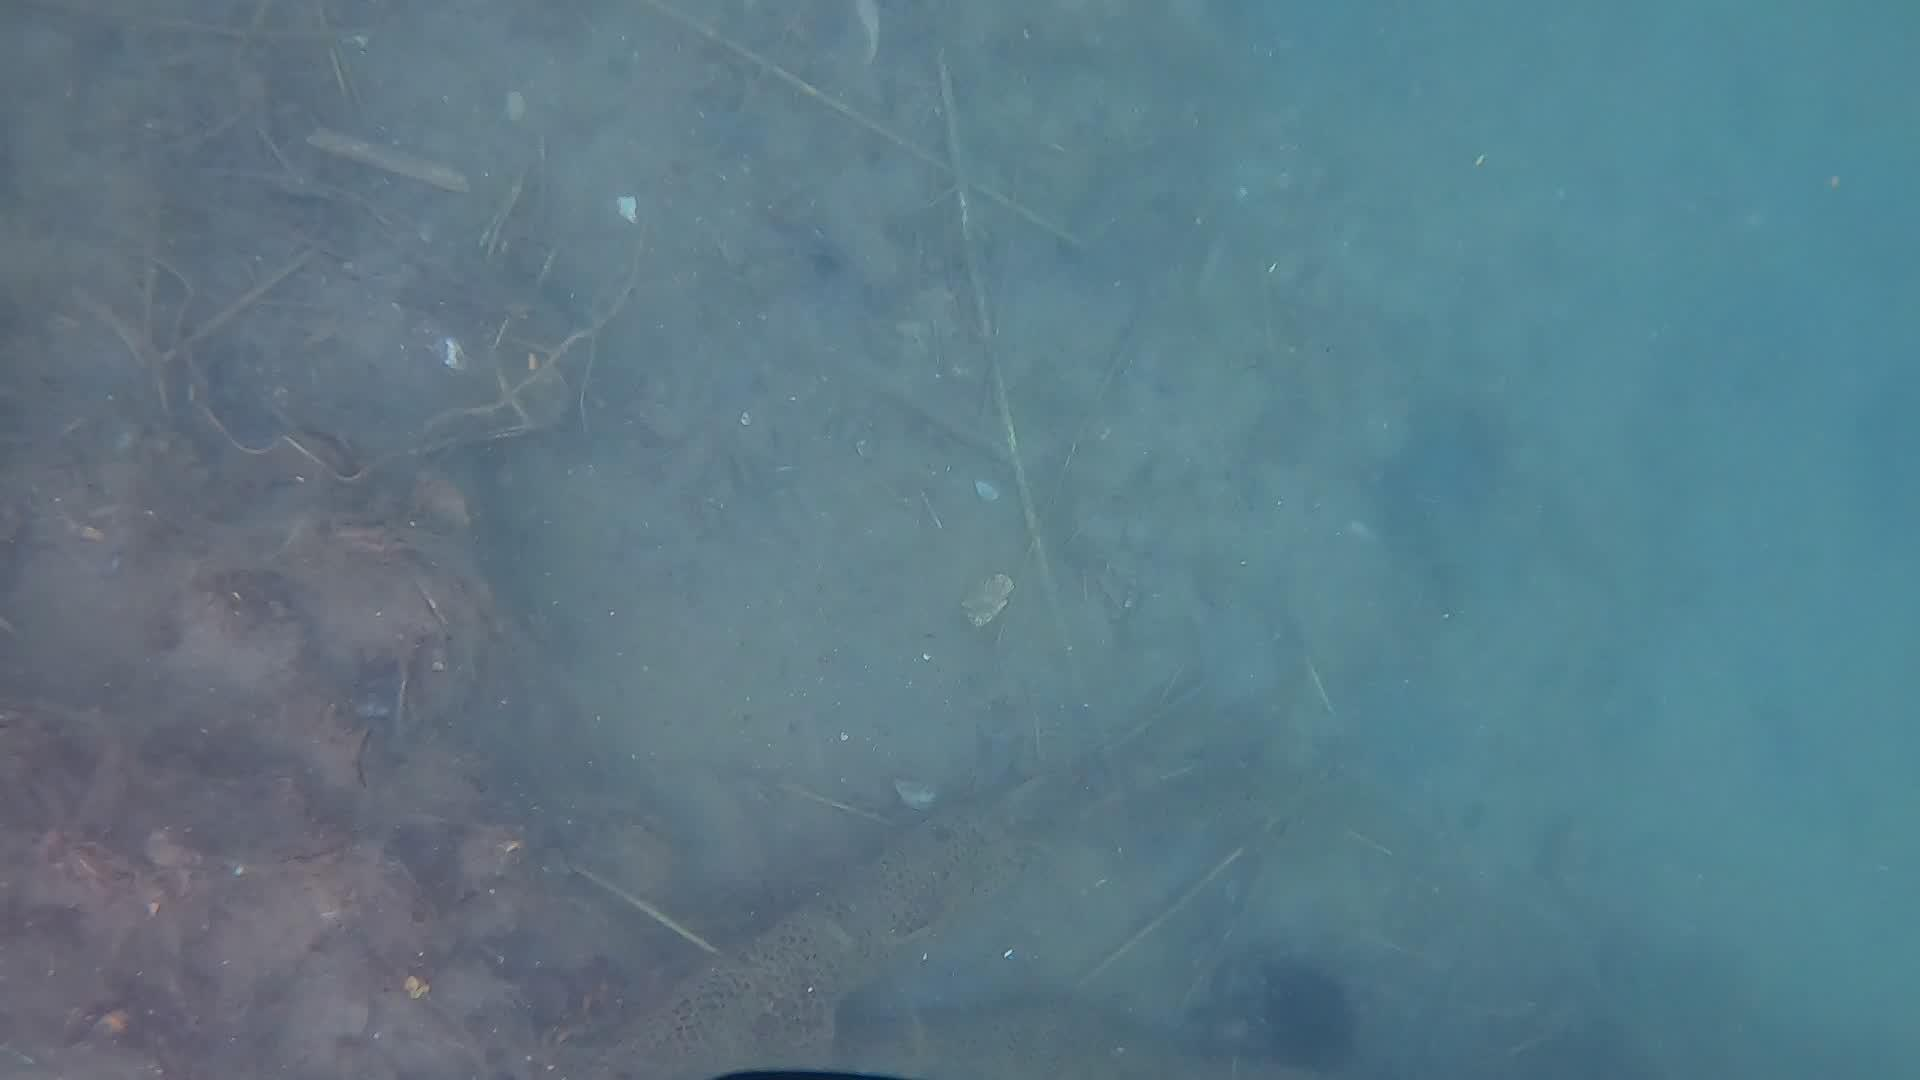fish net: (644, 828, 1011, 1055)
